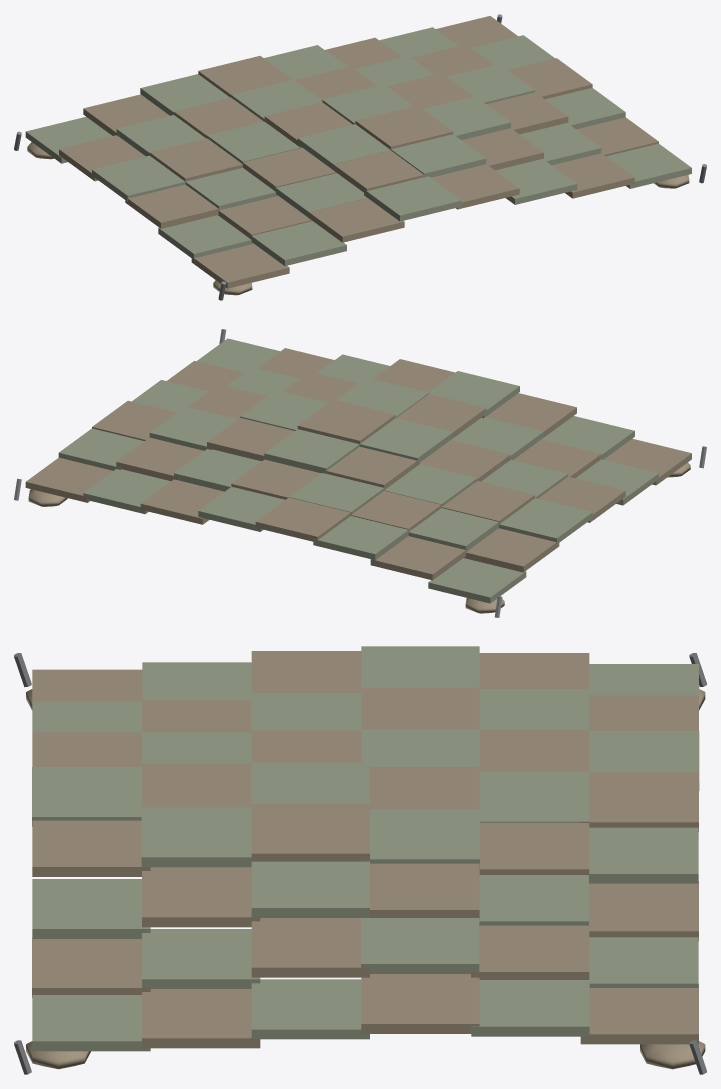
Rendered from armoured-column-and-field-camp-camo-tarp-1597d5da__23732.glb.
3 views of the same model, one above another, from view 1: azimuth 30°, elevation 25°; view 2: azimuth 150°, elevation 25°; view 3: azimuth 270°, elevation 25° (orthographic). The views are drawn at different scales.
Visible parts, largest first — view 1: camo-tarp; view 2: camo-tarp; view 3: camo-tarp.
Boxes of the visible parts, x1,y1,x2,y2 form: camo-tarp: (14, 14, 706, 300); camo-tarp: (14, 329, 706, 617); camo-tarp: (14, 646, 706, 1074).
Size of the model in its own units: 4.22 by 0.4098 by 3.16.
